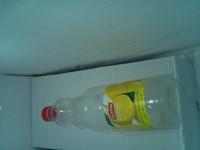bottle: (41, 70, 178, 135)
